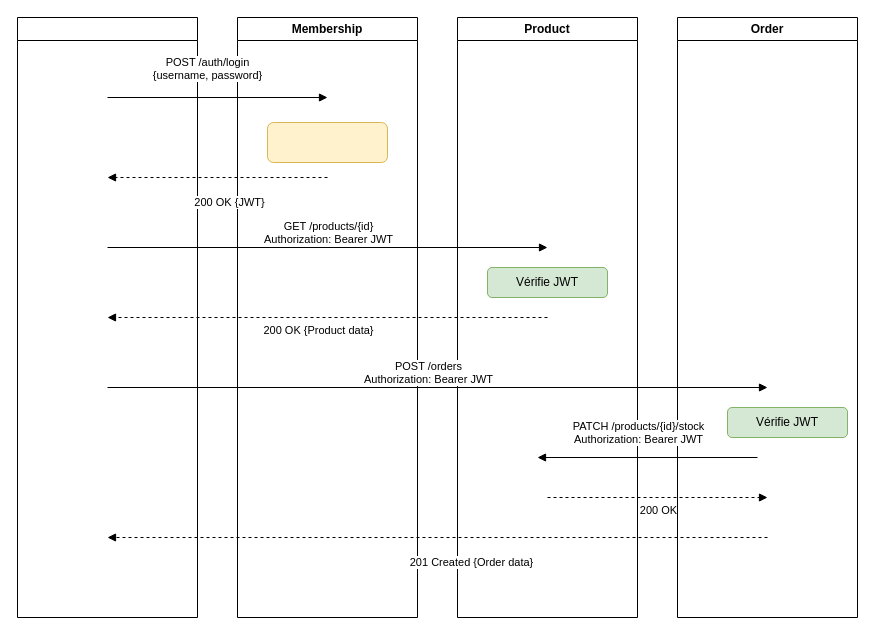
This 875x635 diagram has some shape labels left out. Each missing label, with the box of its shape:
Client: (16, 16, 198, 618)
Valide credentials & génère JWT: (266, 122, 388, 162)
